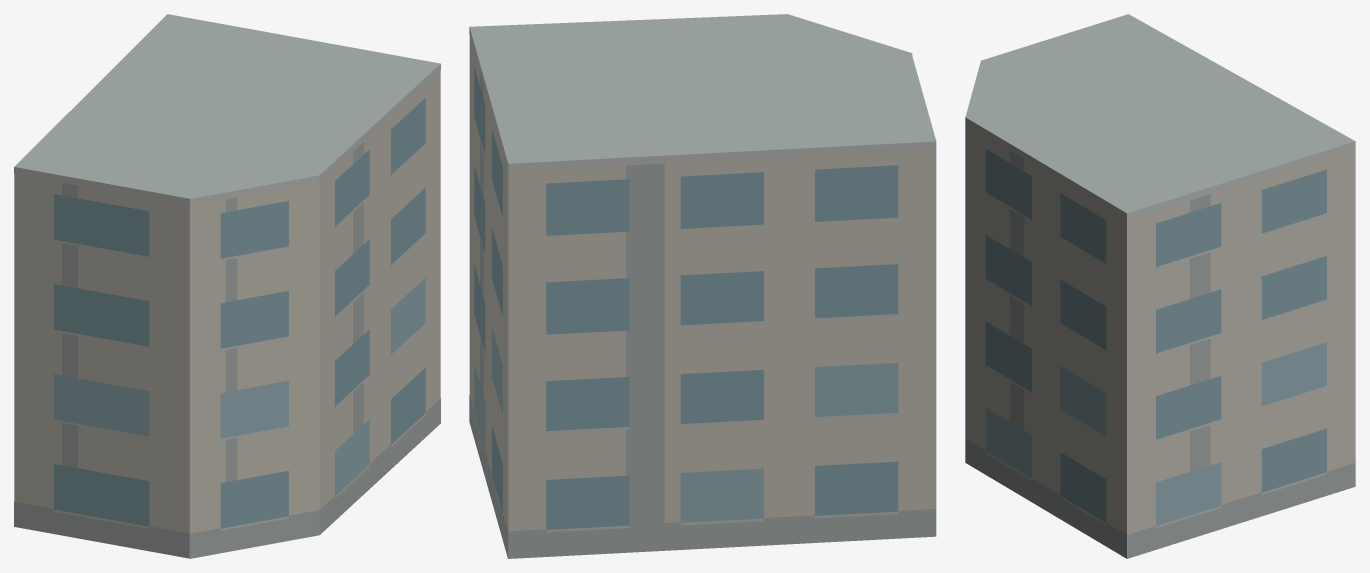
Rendered from residential-cafe830c-b787-4ef9-91ac-33ef6f64229d.glb.
The picture shows the model from 3 angles, left to right: view 1: azimuth 30°, elevation 25°; view 2: azimuth 150°, elevation 25°; view 3: azimuth 270°, elevation 25°; orthographic projection. The views are drawn at different scales.
Parts seen in each view (by area): view 1: residential-cafe830c-b787-4ef9-91ac-33ef6f64229d.tmp; view 2: residential-cafe830c-b787-4ef9-91ac-33ef6f64229d.tmp; view 3: residential-cafe830c-b787-4ef9-91ac-33ef6f64229d.tmp.
Boxes of the visible parts, x1=… form: residential-cafe830c-b787-4ef9-91ac-33ef6f64229d.tmp: x1=14, y1=14, x2=440, y2=558; residential-cafe830c-b787-4ef9-91ac-33ef6f64229d.tmp: x1=469, y1=14, x2=936, y2=558; residential-cafe830c-b787-4ef9-91ac-33ef6f64229d.tmp: x1=965, y1=14, x2=1355, y2=558.
Size of the model in its own units: 15.12 by 12.2 by 12.5.
